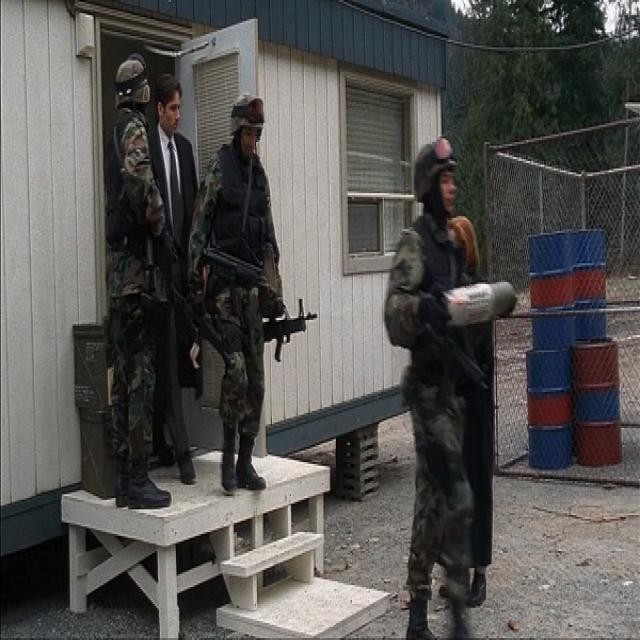rifle: (263, 297, 320, 363)
